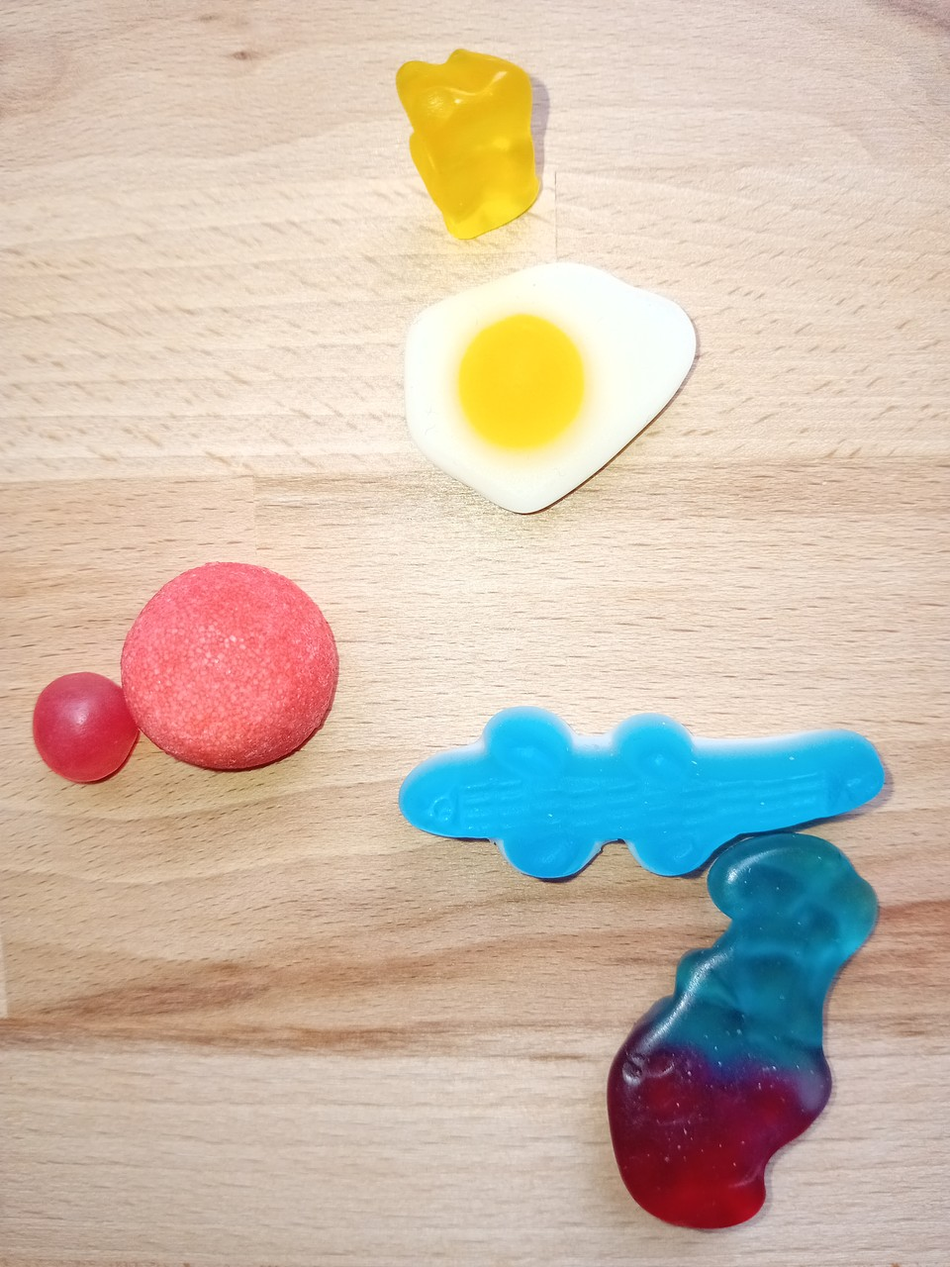crocodile_bleu: (398, 702, 892, 884)
dragibus_rouge: (29, 664, 140, 786)
oeuf_oeuf: (394, 254, 704, 518)
ourson_jaune: (387, 43, 552, 245)
schtroumpf_bleu-rouge: (603, 828, 882, 1233)
tagada_fraise: (119, 560, 344, 776)
